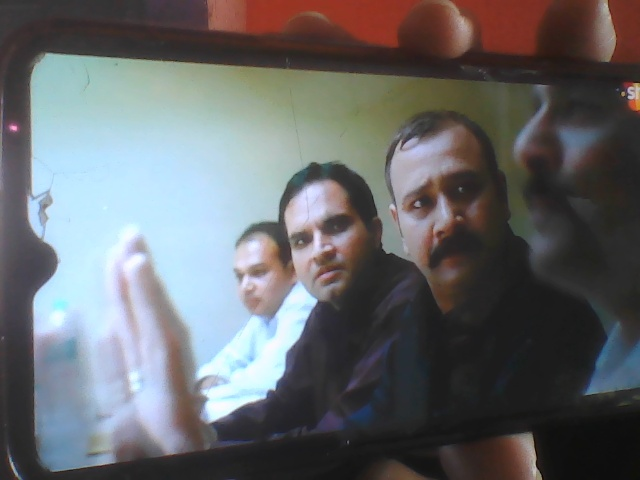fake: (380, 92, 533, 309), (272, 143, 390, 311)
